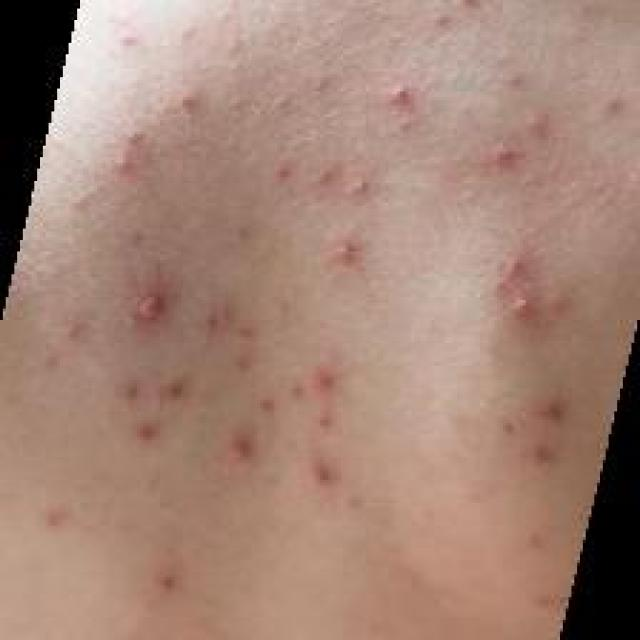others: (61, 4, 600, 640)
